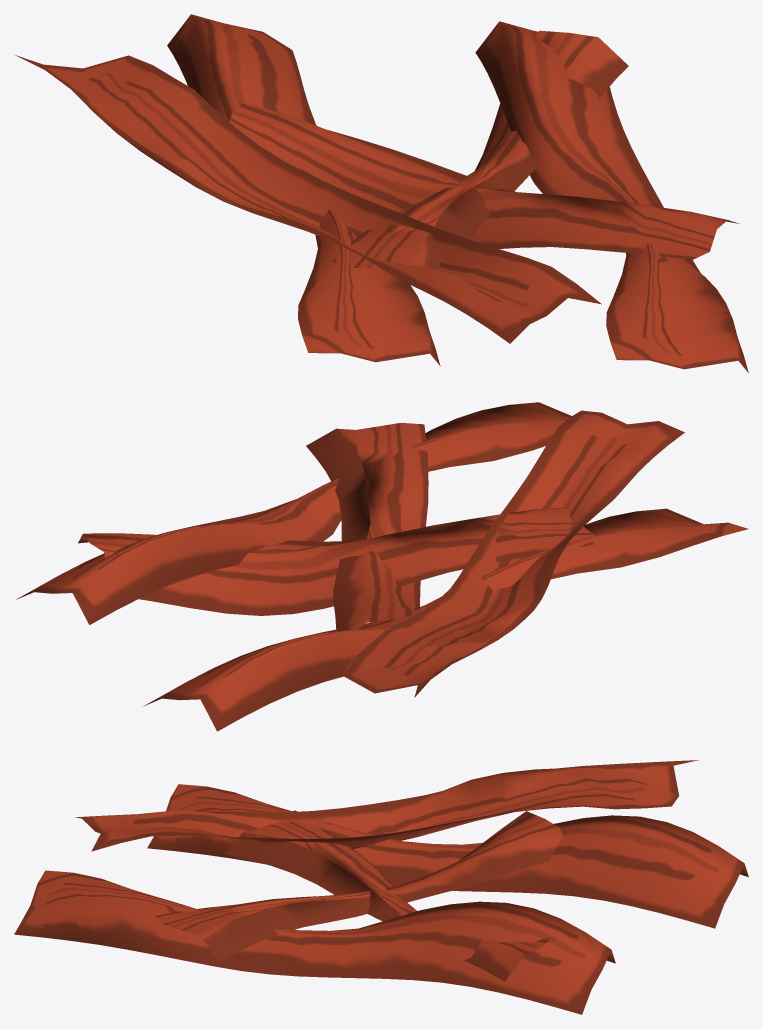
Rendered from bacon.gltf.
The picture shows the model from 3 angles, top to bottom: view 1: azimuth 30°, elevation 25°; view 2: azimuth 150°, elevation 25°; view 3: azimuth 270°, elevation 25°; orthographic projection. The views are drawn at different scales.
Visible parts, largest first — view 1: Bacon.003; view 2: Bacon.003; view 3: Bacon.003.
Part boxes in pixels (x1,y1,x2,y2): Bacon.003: (15, 14, 748, 372); Bacon.003: (16, 402, 748, 731); Bacon.003: (14, 760, 748, 1014).
Size of the model in its own units: 1.66 by 0.2742 by 2.45.
Materials: 5 (5 with a texture image).
